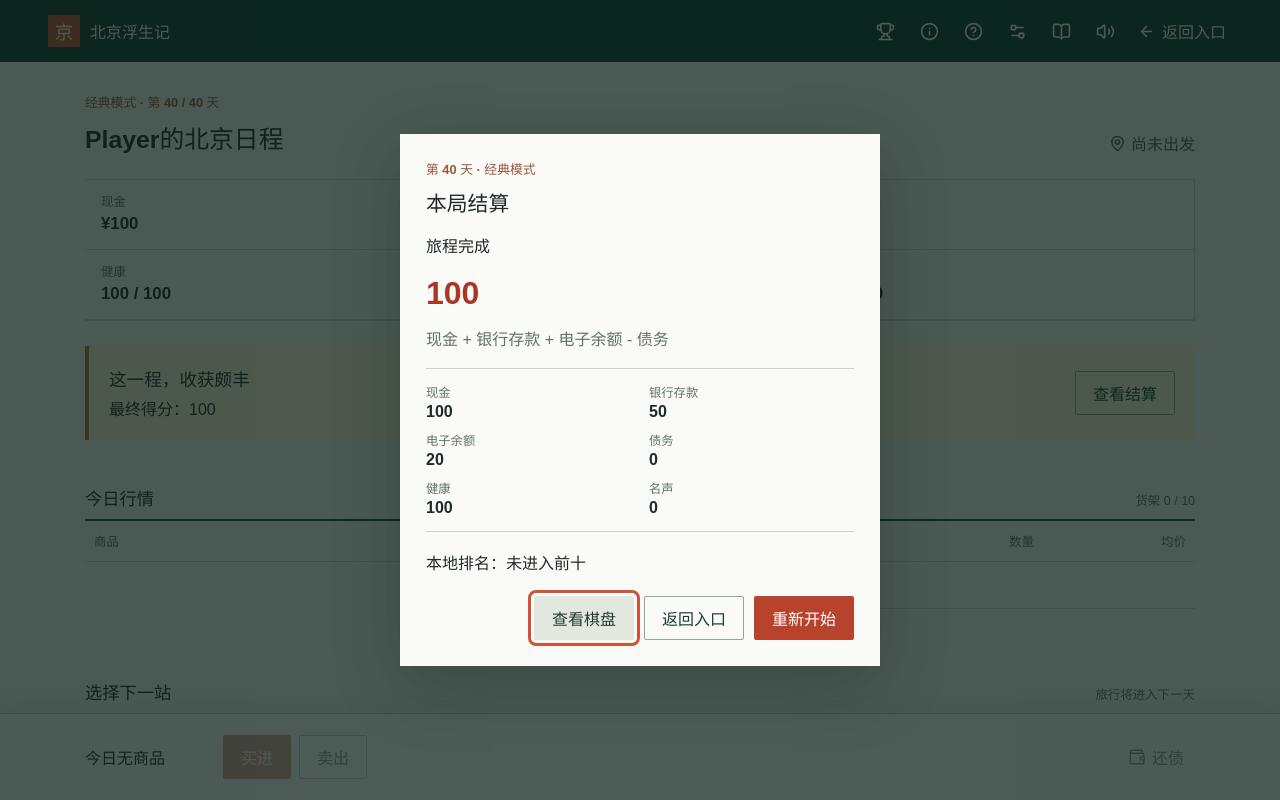
Scenario: App › restores settlement when continuing a finished game after returning to entry
This screenshot has width=1280, height=800.
Click the button "返回入口": (694, 618) [644, 596, 744, 640]
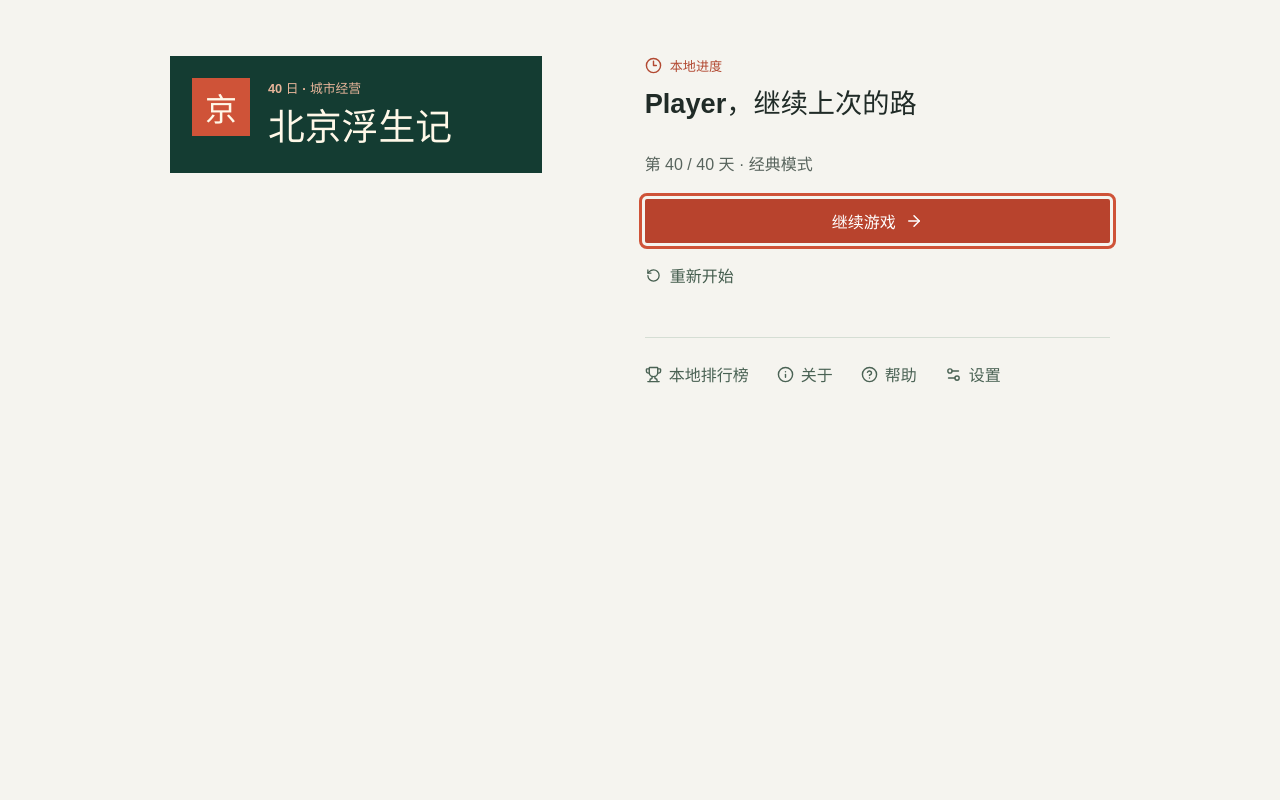
Click the button "继续游戏": (877, 221) [645, 199, 1110, 243]
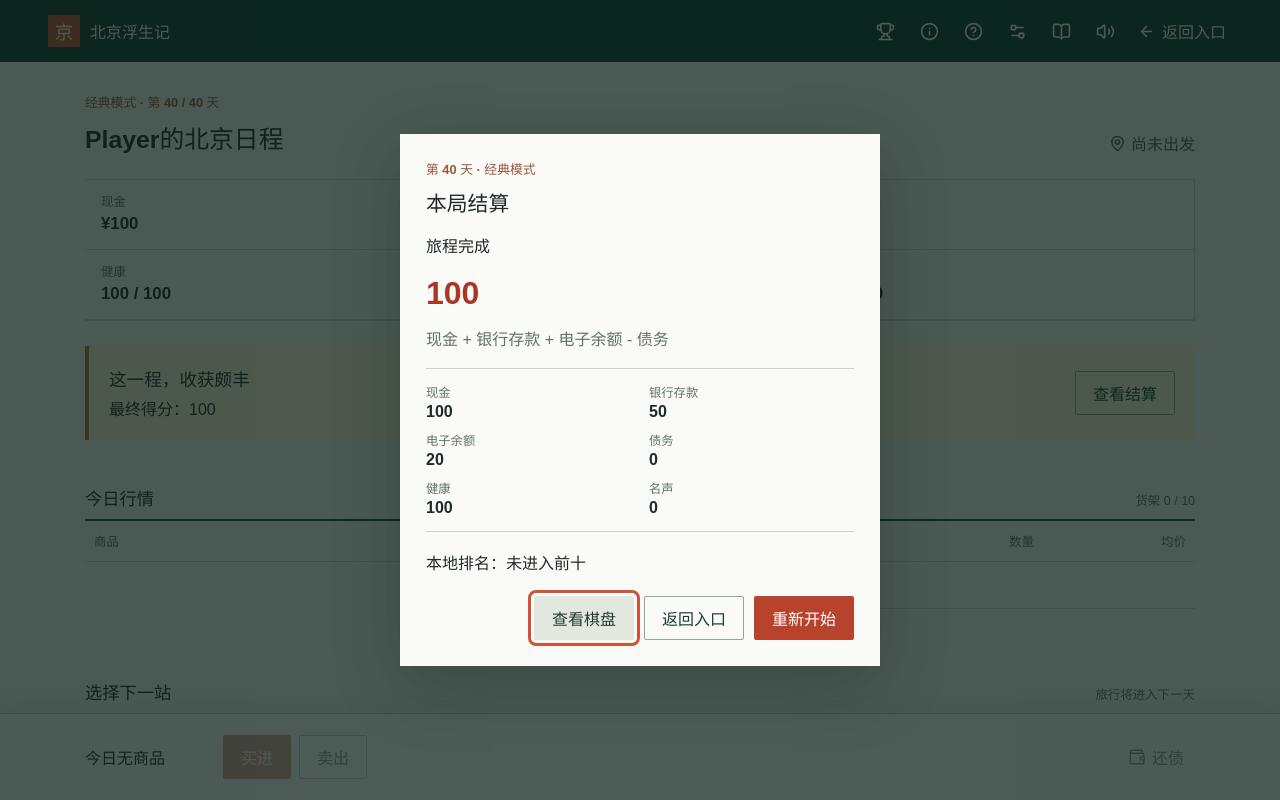
Expected: the dialog "本局结算" is shown, [400, 134, 880, 666]
